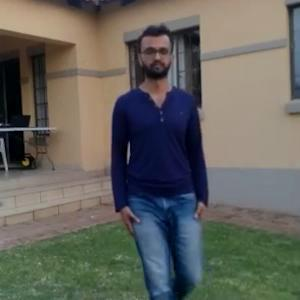follow: (108, 27, 205, 299)
